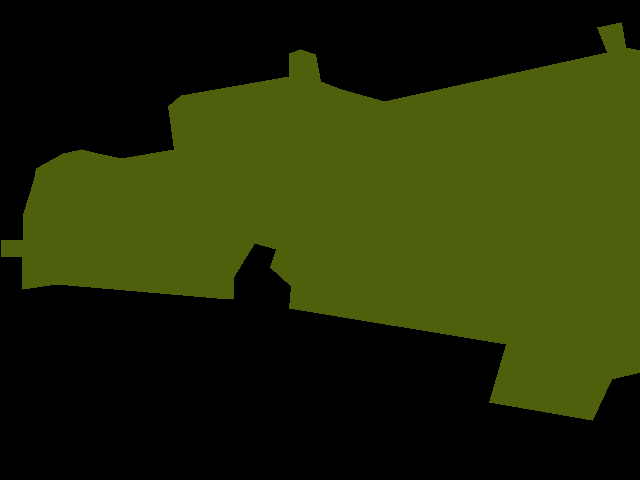Train: (22, 22, 640, 421), (1, 240, 26, 257)
